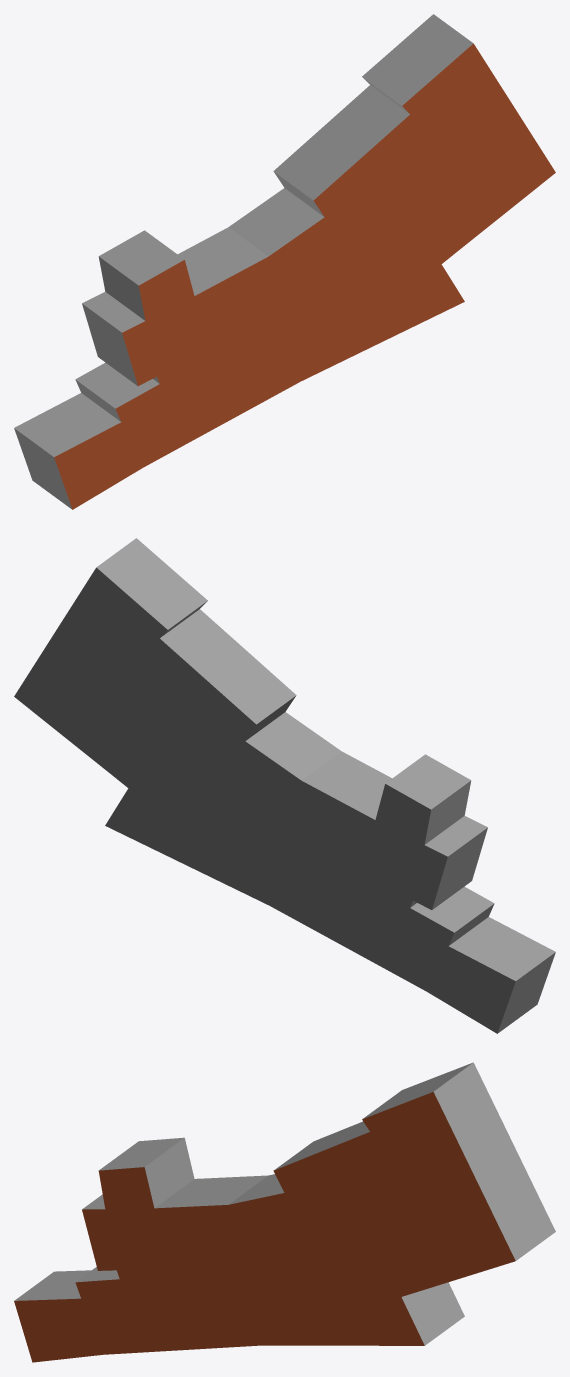
The model's file is construction_6682_assumed_A_Casa_h6m.obj.
The picture shows the model from 3 angles, top to bottom: view 1: azimuth 30°, elevation 25°; view 2: azimuth 150°, elevation 25°; view 3: azimuth 330°, elevation 25°; orthographic projection.
Parts seen in each view (by area): view 1: construction_6682_assumed_A_Casa; view 2: construction_6682_assumed_A_Casa; view 3: construction_6682_assumed_A_Casa.
Boxes of the visible parts, x1=… form: construction_6682_assumed_A_Casa: x1=14, y1=14, x2=555, y2=509; construction_6682_assumed_A_Casa: x1=14, y1=538, x2=555, y2=1033; construction_6682_assumed_A_Casa: x1=14, y1=1062, x2=555, y2=1362.
Size of the model in its own units: 43.3 by 30.4 by 6.
